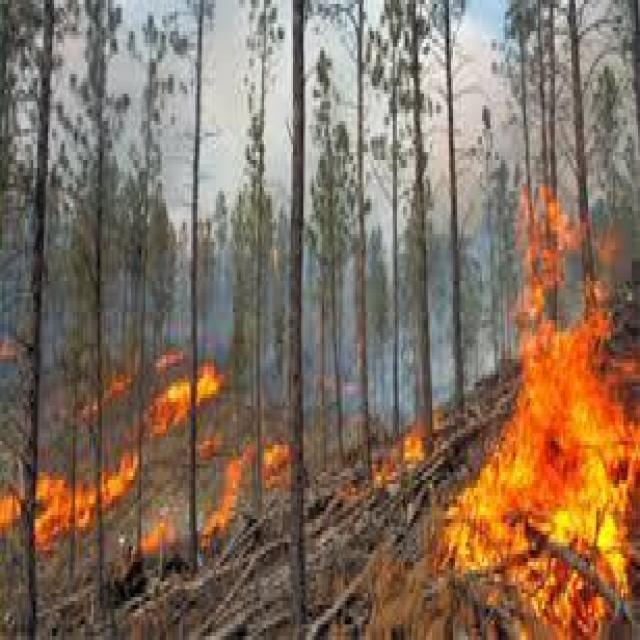Fire: (402, 328, 640, 634), (0, 281, 234, 542)
